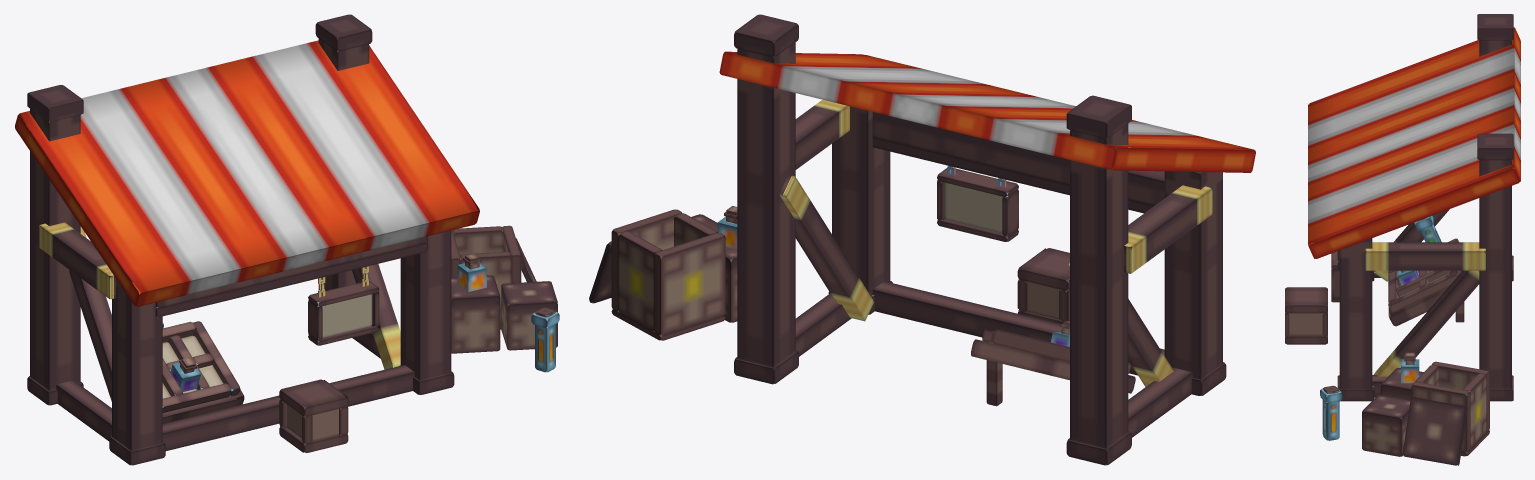
The model's file is Shop.fbx.
3 views of the same model, side by side, from view 1: azimuth 30°, elevation 25°; view 2: azimuth 150°, elevation 25°; view 3: azimuth 270°, elevation 25° (orthographic). The views are drawn at different scales.
Parts seen in each view (by area): view 1: cube_19, cube_17, cube_16, cube_15, cube_6, cube_39, cube_13, cube_45, cube_7, cube_11, cube_12, cube_8 (+19 smaller); view 2: cube_19, cube_17, cube_18, cube_16, cube_15, cube_8, cube_46, cube_6, cube_12, cube_13, cube_47, cube_14 (+21 smaller); view 3: cube_19, cube_18, cube_15, cube_51, cube_14, cube_12, cube_45, cube_49, cube_47, cube_44, cube_46, cube_2 (+16 smaller).
Boxes of the visible parts, left/top/right/bottom form: cube_19: left=15, top=40, right=479, bottom=306; cube_17: left=30, top=108, right=80, bottom=393; cube_16: left=112, top=274, right=162, bottom=454; cube_15: left=400, top=230, right=451, bottom=383; cube_6: left=162, top=365, right=414, bottom=450; cube_39: left=451, top=275, right=500, bottom=353; cube_13: left=39, top=222, right=115, bottom=299; cube_45: left=501, top=281, right=557, bottom=350; cube_7: left=155, top=242, right=427, bottom=317; cube_11: left=69, top=226, right=111, bottom=401; cube_12: left=352, top=264, right=400, bottom=369; cube_8: left=155, top=236, right=427, bottom=307; cube_19: left=719, top=51, right=1255, bottom=172; cube_17: left=1070, top=122, right=1128, bottom=452; cube_18: left=737, top=41, right=795, bottom=370; cube_16: left=1164, top=171, right=1222, bottom=382; cube_15: left=832, top=106, right=890, bottom=295; cube_8: left=872, top=112, right=1164, bottom=205; cube_46: left=654, top=233, right=725, bottom=335; cube_6: left=872, top=281, right=1164, bottom=375; cube_12: left=779, top=175, right=873, bottom=321; cube_13: left=1124, top=185, right=1212, bottom=273; cube_47: left=618, top=231, right=662, bottom=331; cube_14: left=795, top=99, right=849, bottom=169; cube_19: left=1308, top=27, right=1520, bottom=258; cube_18: left=1479, top=160, right=1511, bottom=388; cube_15: left=1339, top=238, right=1372, bottom=388; cube_51: left=1402, top=397, right=1467, bottom=465; cube_14: left=1365, top=242, right=1485, bottom=270; cube_12: left=1373, top=270, right=1479, bottom=376; cube_45: left=1362, top=395, right=1410, bottom=456; cube_49: left=1411, top=382, right=1470, bottom=452; cube_47: left=1463, top=373, right=1486, bottom=448; cube_44: left=1285, top=287, right=1327, bottom=313; cube_46: left=1431, top=361, right=1489, bottom=431; cube_2: left=1477, top=14, right=1513, bottom=40.
Size of the model in its own units: 351 by 204 by 172.
Materials: 1 (1 with a texture image).
